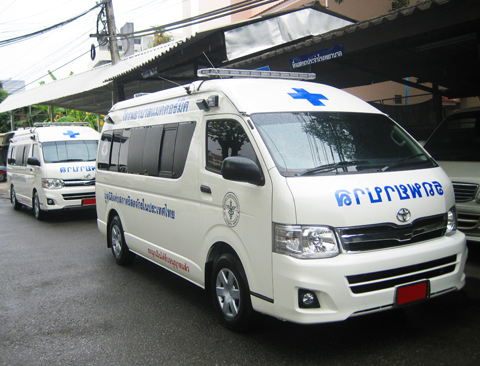van: (92, 68, 469, 333)
